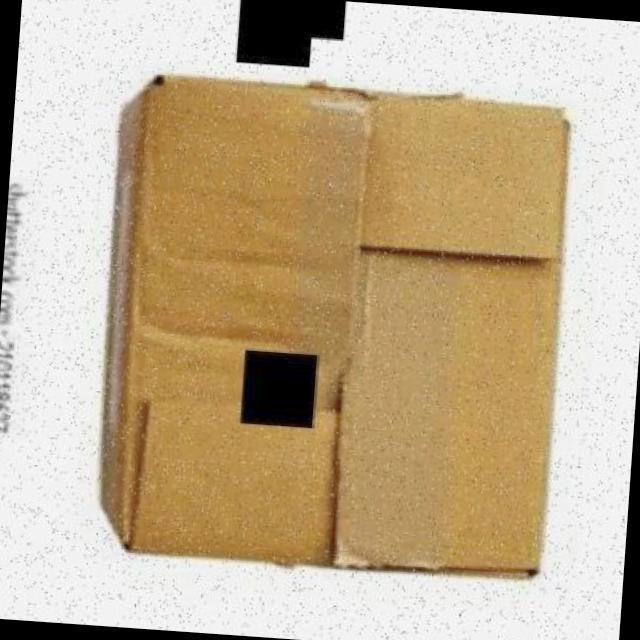box: (82, 61, 586, 592)
